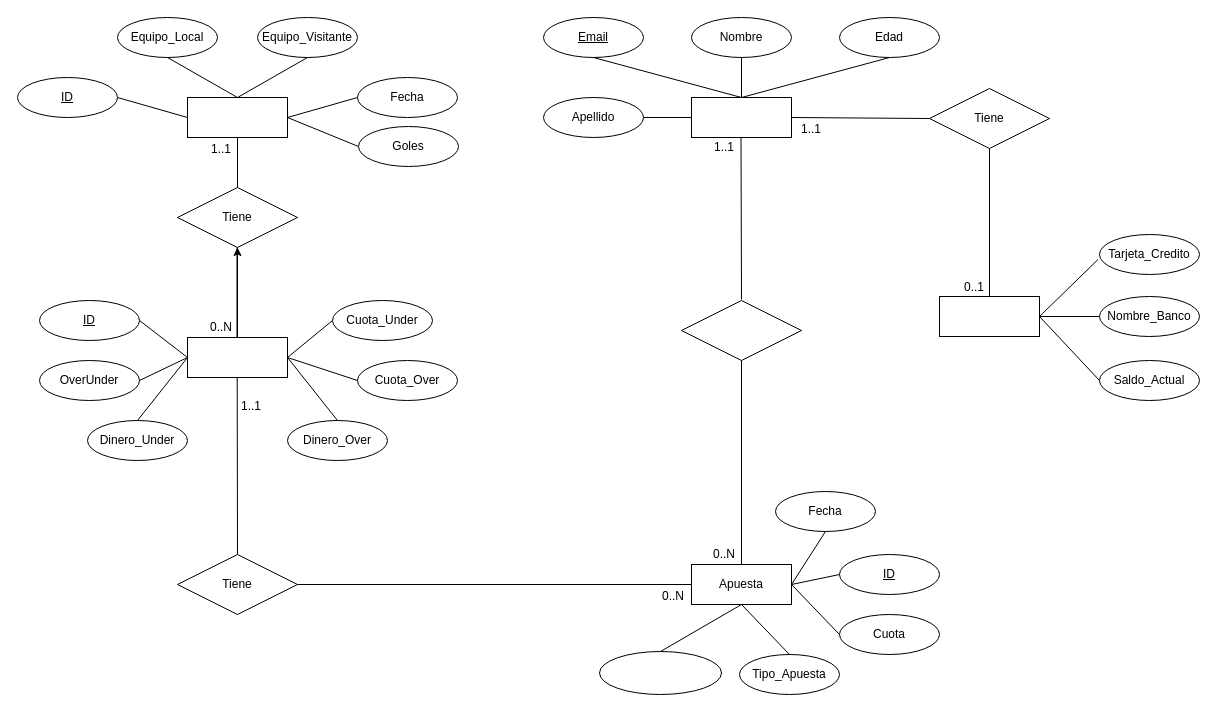
Image size: 1217x712. Some labels were removed from this diagram. The shapes that lost their labels are listed below. From the top down, each one's centre as x and y in pixels, then its label:
At [237,117]: "Evento".
At [741,117]: "Usuario".
At [741,330]: "Hace".
At [989,316]: "Cuenta_Banco".
At [237,357]: "Mercado".
At [660,672]: "Dinero_Apostado".
